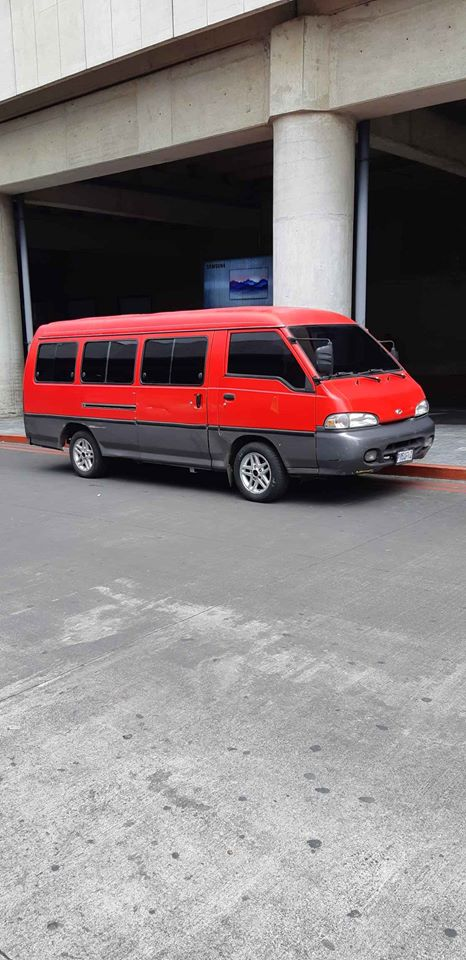bus: (17, 300, 438, 497)
